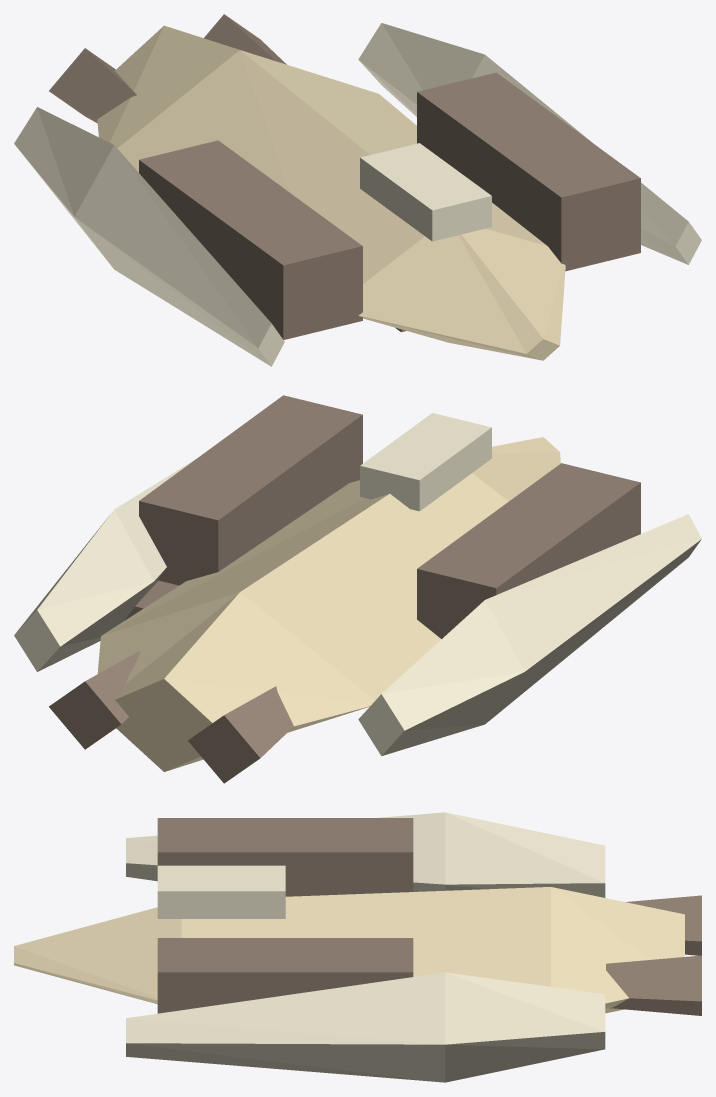
The picture shows the model from 3 angles, top to bottom: view 1: azimuth 30°, elevation 25°; view 2: azimuth 150°, elevation 25°; view 3: azimuth 270°, elevation 25°; orthographic projection. The views are drawn at different scales.
Bounding box in the file's own units: 2.96 × 1.04 × 4.44.
